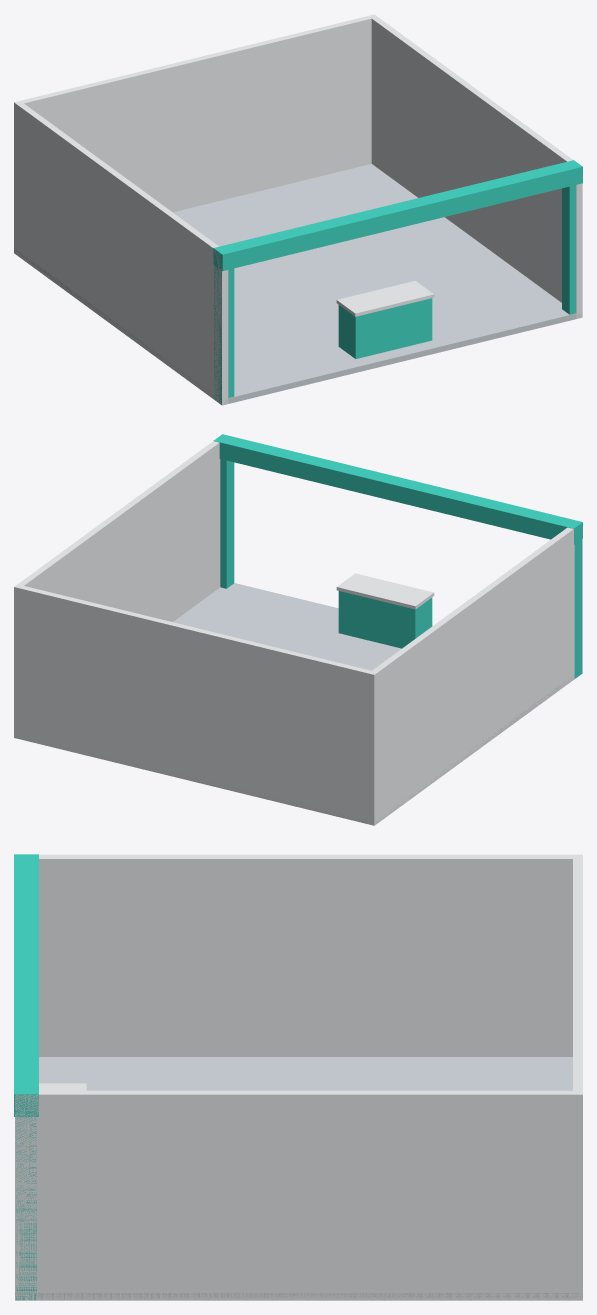
3 views of the same model, one above another, from view 1: azimuth 30°, elevation 25°; view 2: azimuth 150°, elevation 25°; view 3: azimuth 270°, elevation 25° (orthographic). The views are drawn at different scales.
Parts seen in each view (by area): view 1: Exhibition Booth Concept; view 2: Exhibition Booth Concept; view 3: Exhibition Booth Concept.
Boxes of the visible parts, bbox=[...] form: Exhibition Booth Concept: bbox=[14, 14, 582, 405]; Exhibition Booth Concept: bbox=[14, 434, 582, 825]; Exhibition Booth Concept: bbox=[14, 854, 582, 1300].
Size of the model in its own units: 8 by 3.2 by 8.01.
